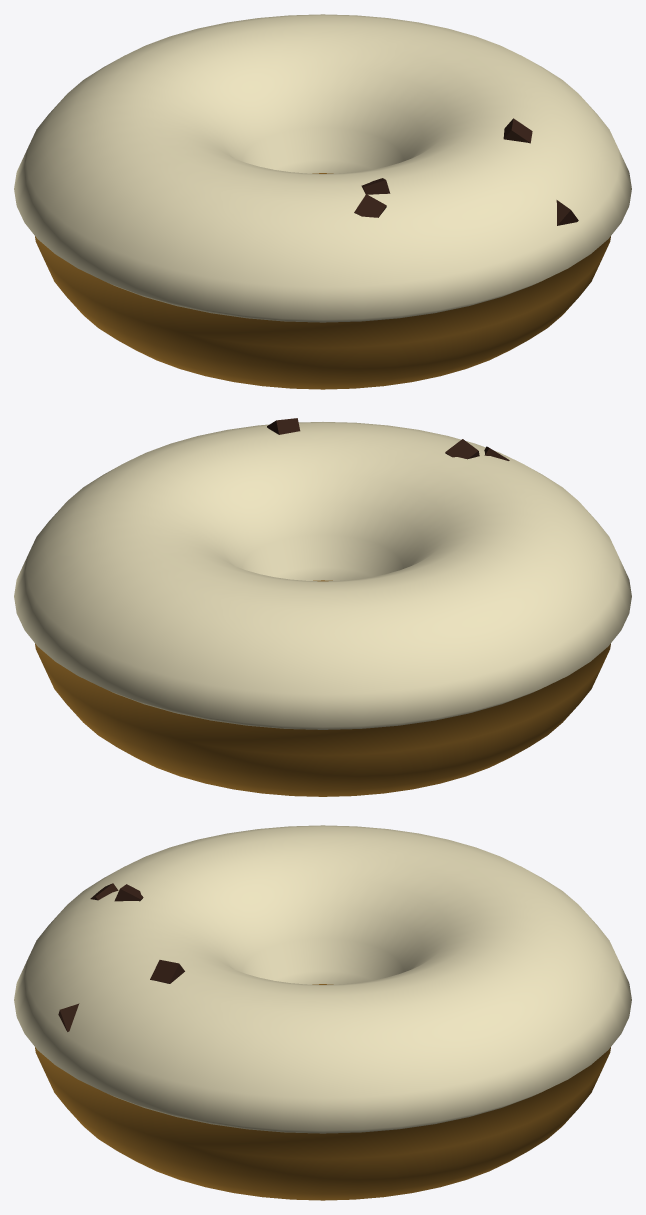
File: donutWhite.fbx
The picture shows the model from 3 angles, top to bottom: view 1: azimuth 30°, elevation 25°; view 2: azimuth 150°, elevation 25°; view 3: azimuth 270°, elevation 25°; orthographic projection.
Visible parts, largest first — view 1: donutWhite; view 2: donutWhite; view 3: donutWhite.
Part boxes in pixels (x1,y1,x2,y2): donutWhite: [14, 14, 631, 389]; donutWhite: [14, 418, 631, 796]; donutWhite: [14, 825, 631, 1200].
Size of the model in its own units: 0.0915 by 0.0342 by 0.0915.
